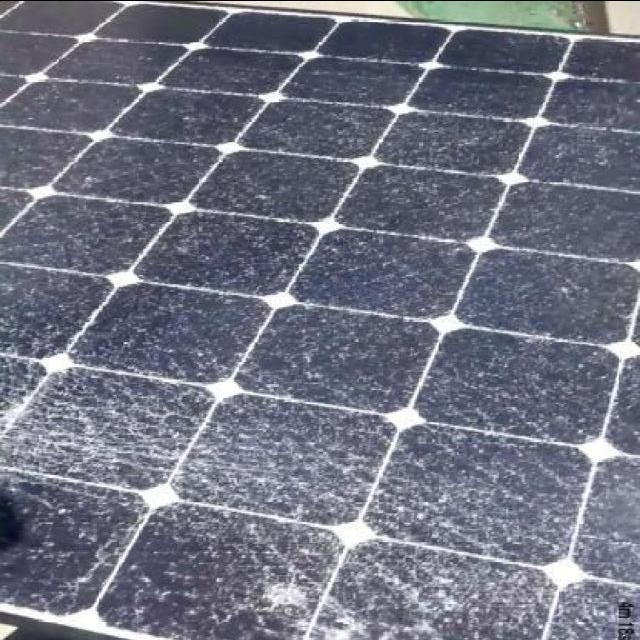cracked: (0, 7, 639, 629)
